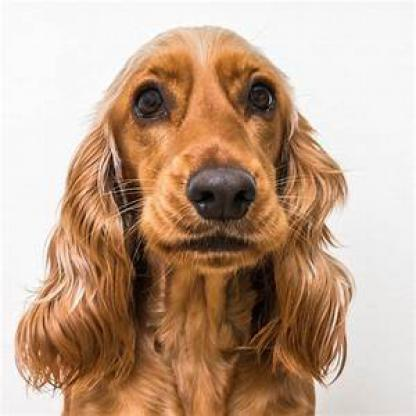dog: (11, 24, 355, 414)
